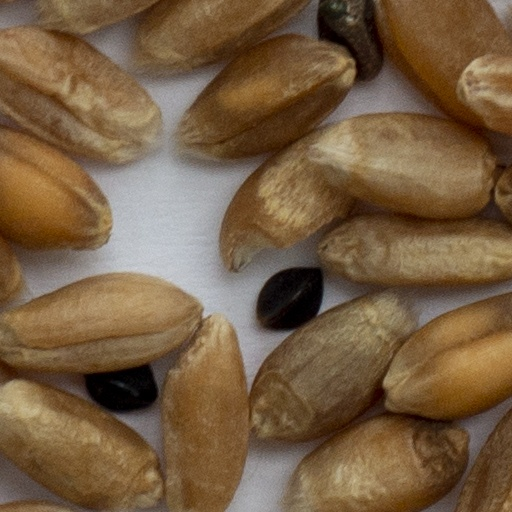Convolvulus-poly: (318, 0, 380, 78)
Fallopia-Convolvulus-poly: (258, 268, 321, 327), (86, 366, 156, 408)
